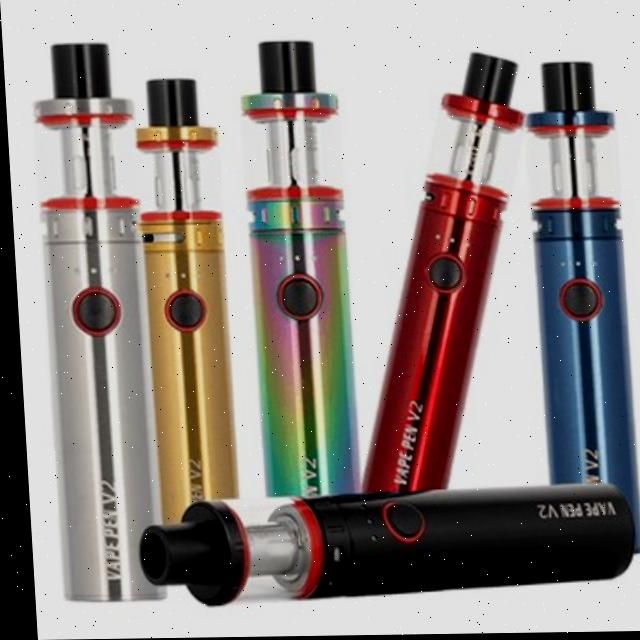vape: (335, 52, 543, 490), (29, 42, 164, 604), (128, 483, 633, 609), (237, 41, 357, 499), (518, 62, 632, 487), (131, 77, 235, 521)
